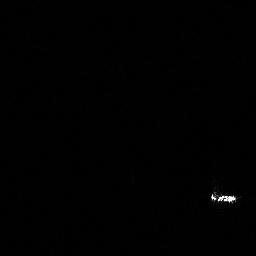ship: (208, 188, 241, 206)
